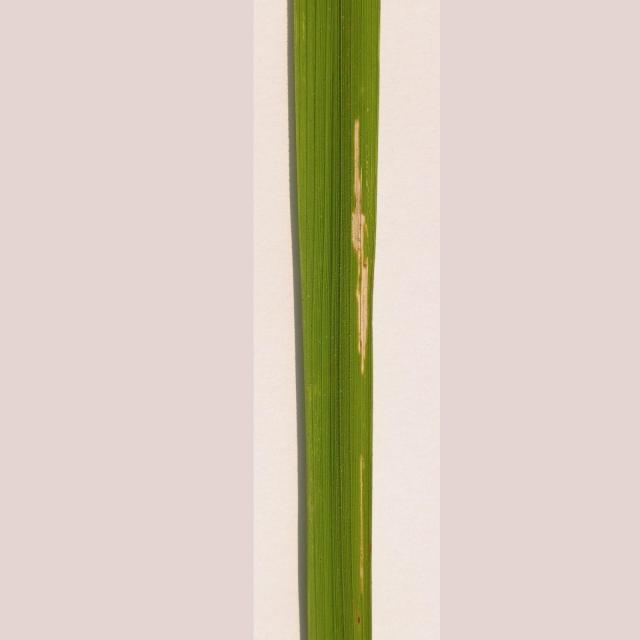Bacterial leaf blight: (342, 111, 374, 376), (351, 456, 370, 638)
